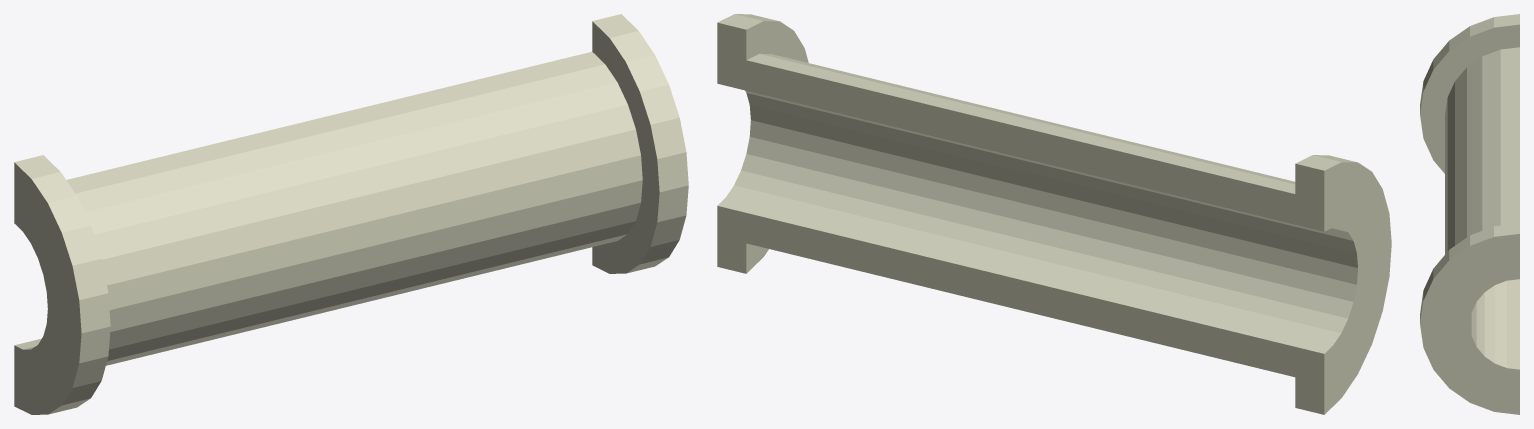
File: section_015.obj
3 views of the same model, side by side, from view 1: azimuth 30°, elevation 25°; view 2: azimuth 150°, elevation 25°; view 3: azimuth 270°, elevation 25° (orthographic). The views are drawn at different scales.
Bounding box in the file's own units: 20.82 × 8 × 4.
